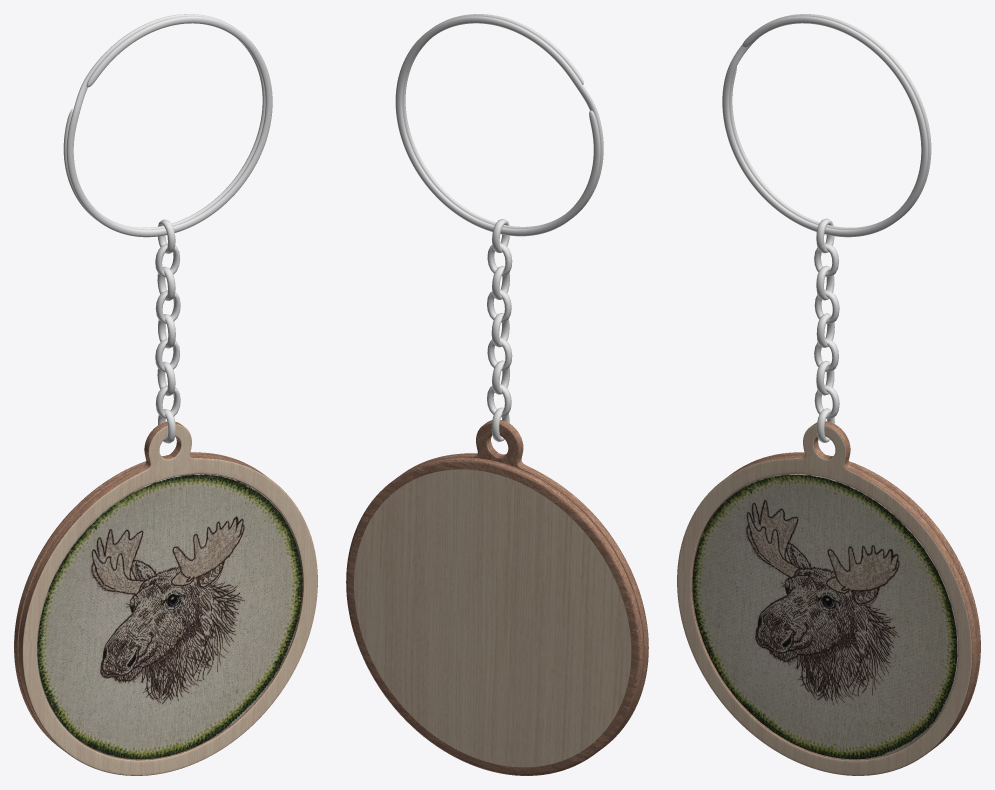
File: Keychain.glb
3 renders of one model, left to right at view 1: azimuth 30°, elevation 25°; view 2: azimuth 150°, elevation 25°; view 3: azimuth 330°, elevation 25°, orthographic.
Visible parts, largest first — view 1: Circle.002; view 2: Circle.002; view 3: Circle.002.
Boxes of the visible parts, x1=… form: Circle.002: x1=14, y1=14, x2=317, y2=775; Circle.002: x1=346, y1=14, x2=648, y2=775; Circle.002: x1=677, y1=14, x2=980, y2=775.
Size of the model in its own units: 0.4965 by 1.21 by 0.0397.
Materials: 4 (3 with a texture image).
